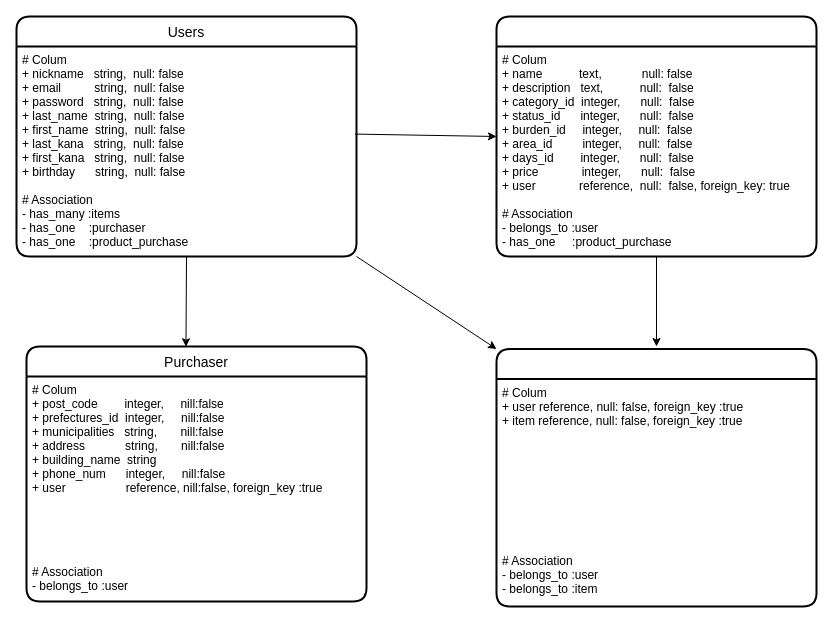
This 833x623 diagram has some shape labels left out. Here are the shapes that lost their labels. From the top down, the box of each, then its label:
(495, 15, 817, 257): Items
(495, 348, 817, 607): Product_purchase
